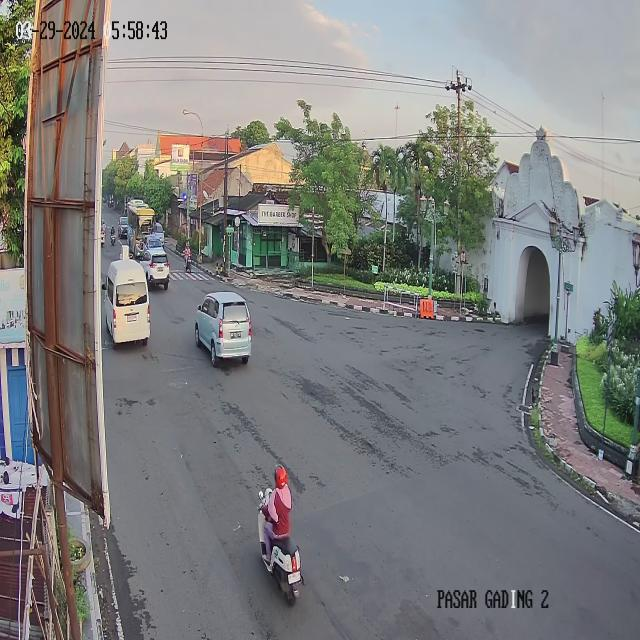bus: (102, 259, 152, 349), (126, 204, 158, 256), (126, 197, 150, 224)
car: (193, 290, 252, 368), (140, 250, 171, 292), (140, 232, 164, 257), (151, 220, 167, 248), (116, 213, 130, 240)
motorcycle: (252, 462, 309, 602), (119, 244, 136, 267), (182, 243, 194, 274), (110, 222, 116, 251), (100, 226, 106, 250), (101, 219, 108, 236)
